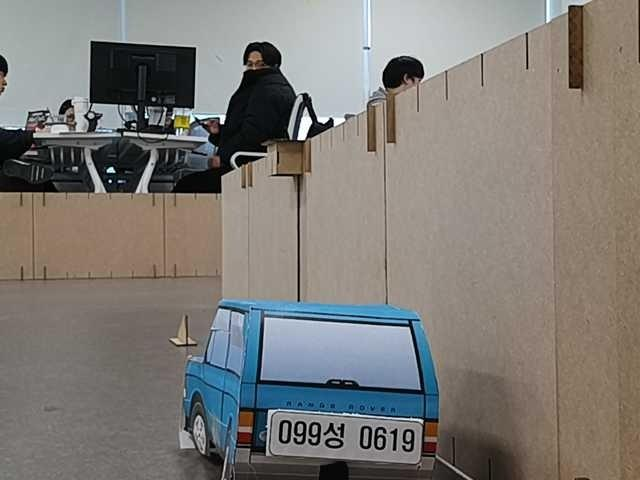car: (178, 296, 444, 480)
id: (263, 406, 421, 466)
